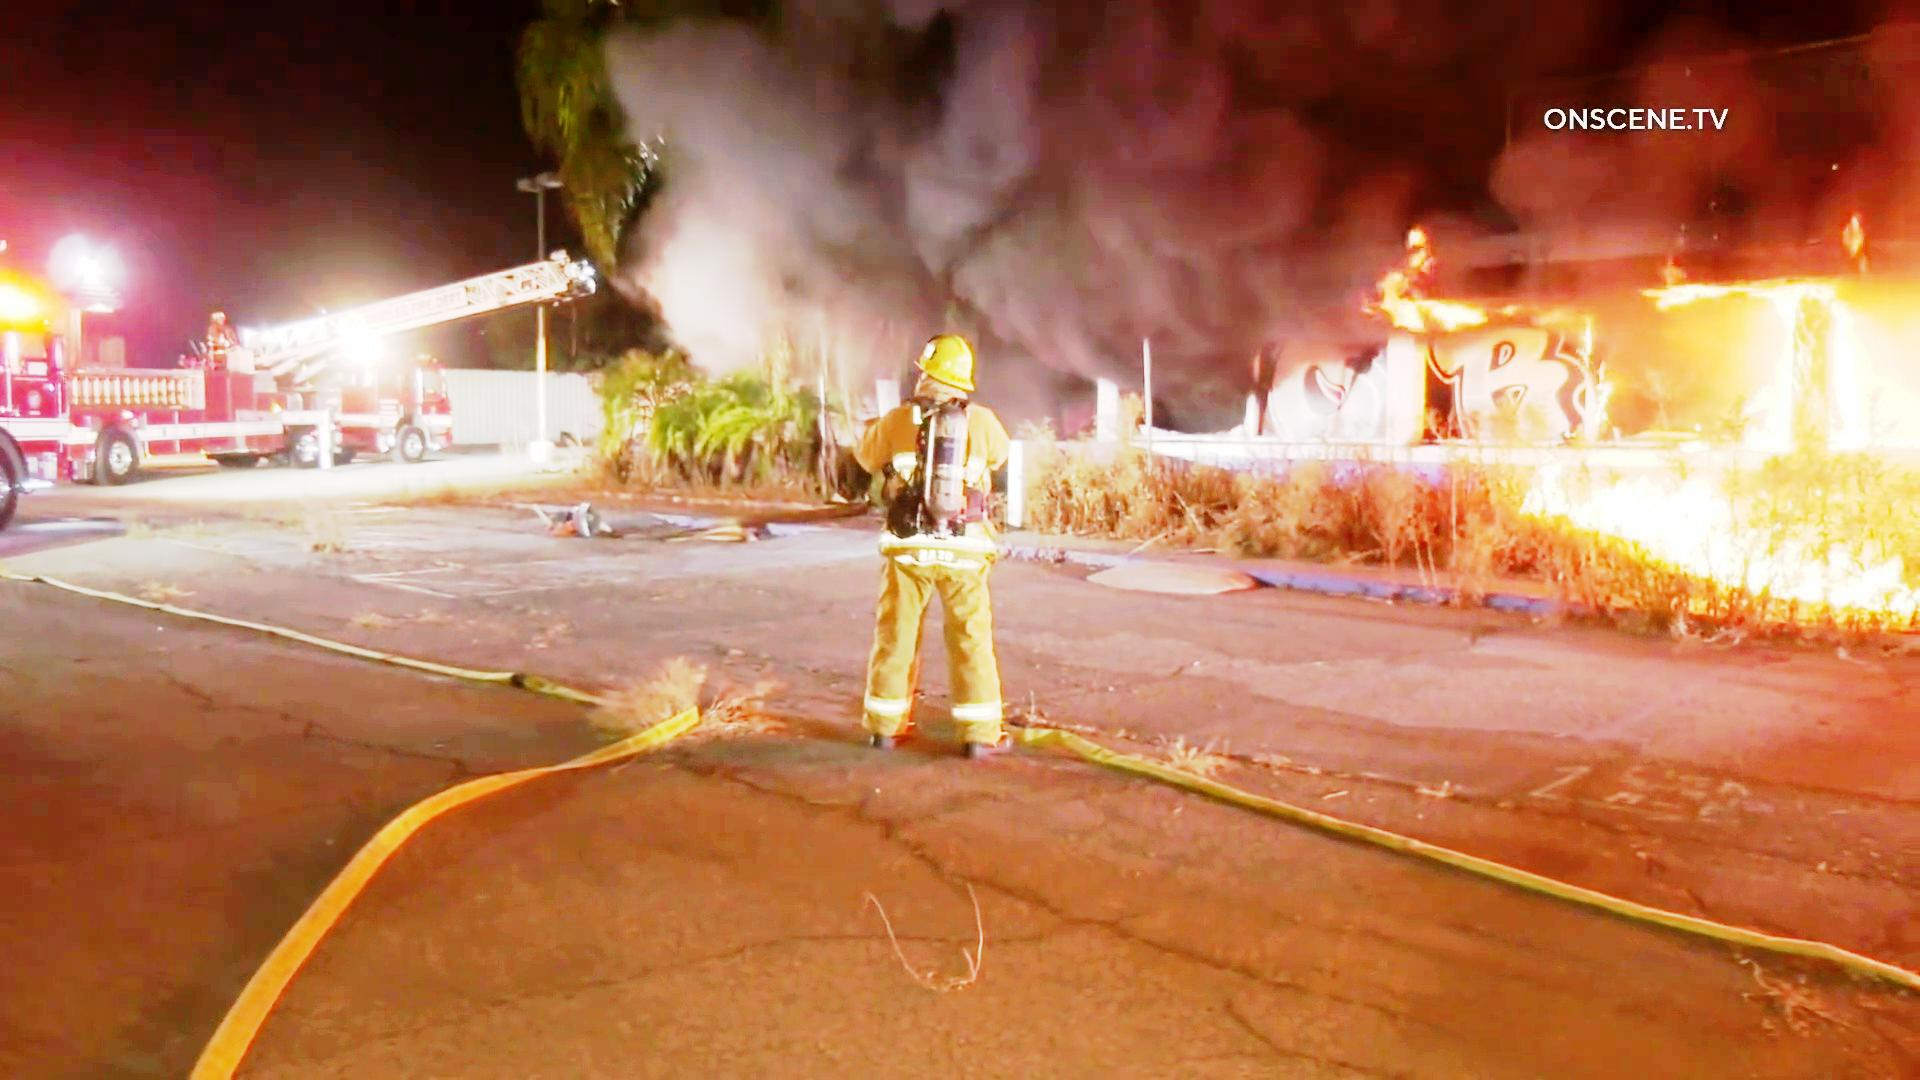fire: (1556, 443, 1920, 626), (1655, 287, 1920, 425)
smoke: (695, 33, 1371, 335), (1590, 153, 1919, 270)
